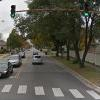Crosswalk: (3, 78, 95, 100)
